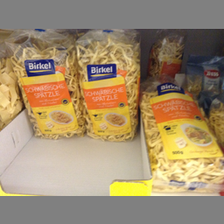pasta: (141, 73, 224, 191), (5, 30, 84, 138), (75, 31, 141, 140)
